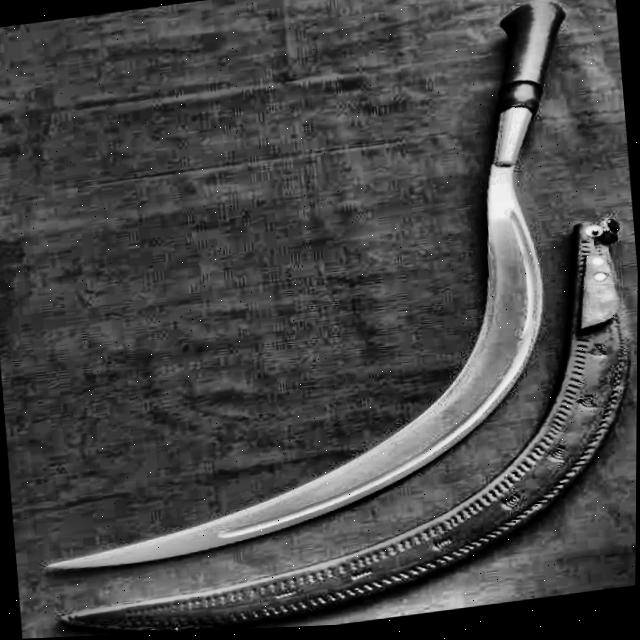celurit: (43, 0, 572, 572)
